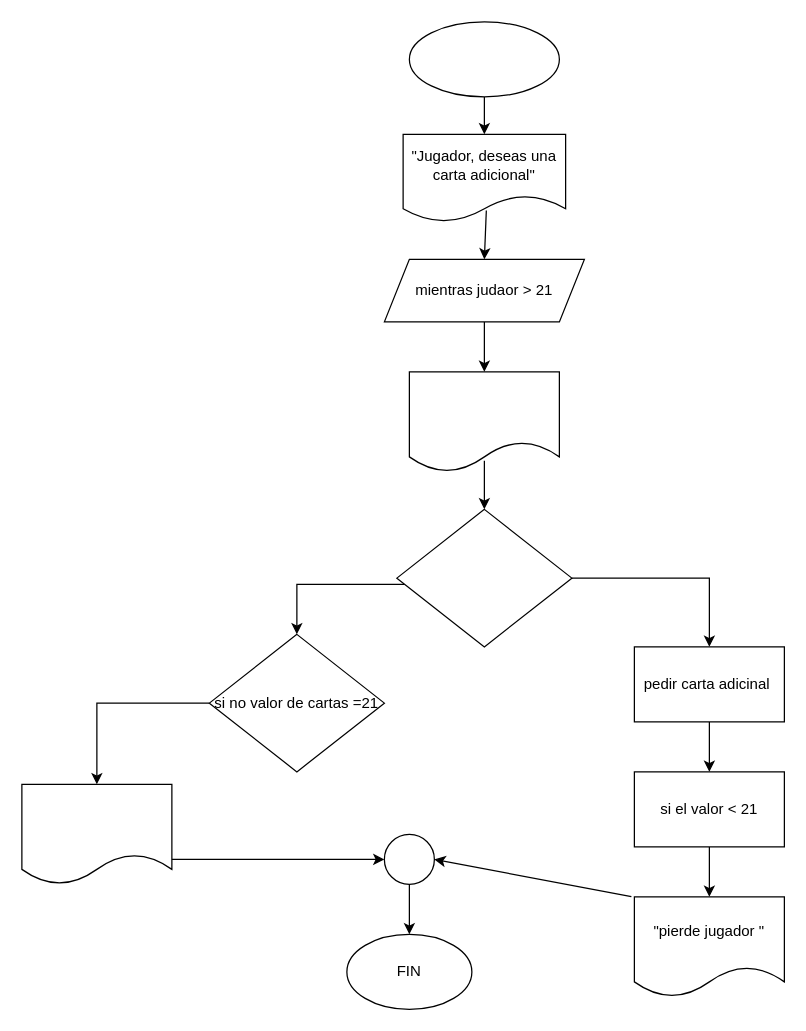
Image size: 806x1031. Some labels were removed from this diagram. The shapes that lost their labels are listed below. From the top down, each one's centre as x and y in pixels, then its label:
pixel 483 59: INICIO
pixel 483 421: "Mostrar mostrar valor de las cartas de jugador"
pixel 484 577: si valor de cartas >21
pixel 96 833: "gana jugador "
